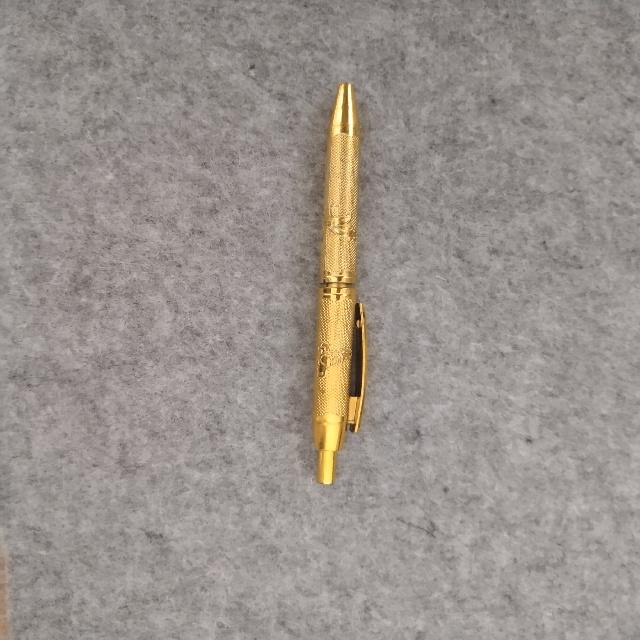signature pen: (313, 83, 365, 483)
